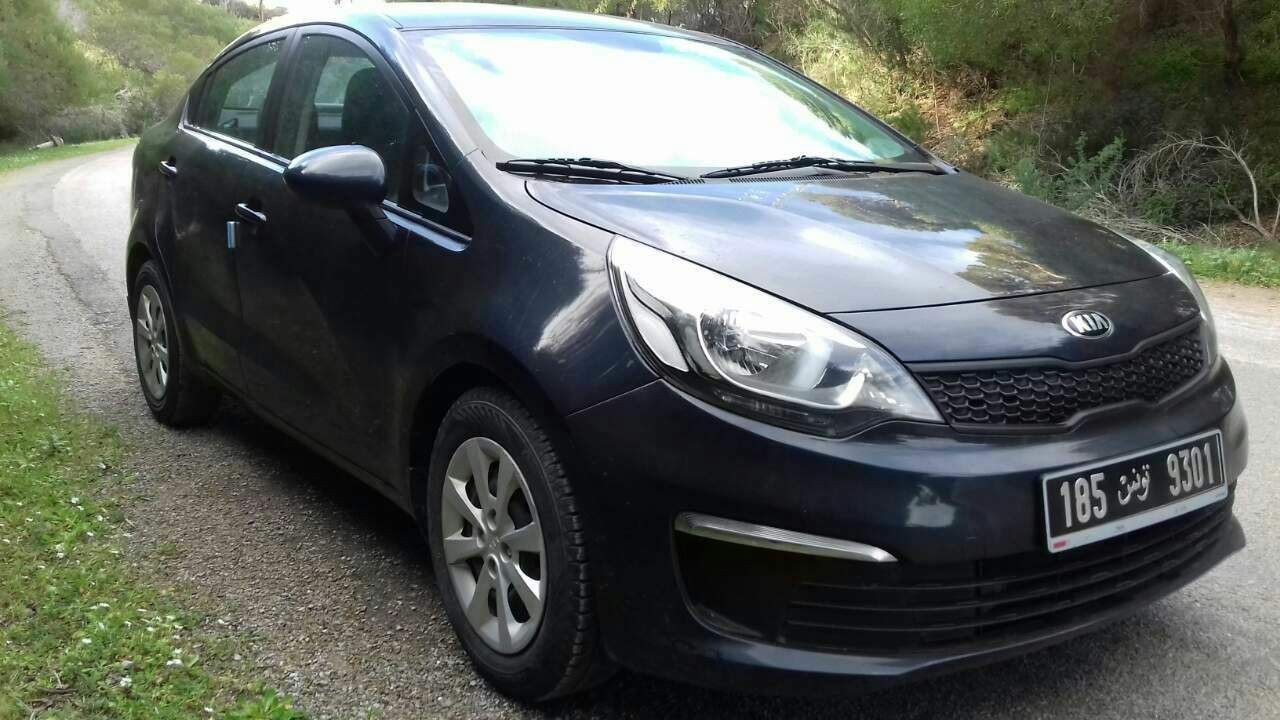LP: (1041, 430, 1236, 546)
